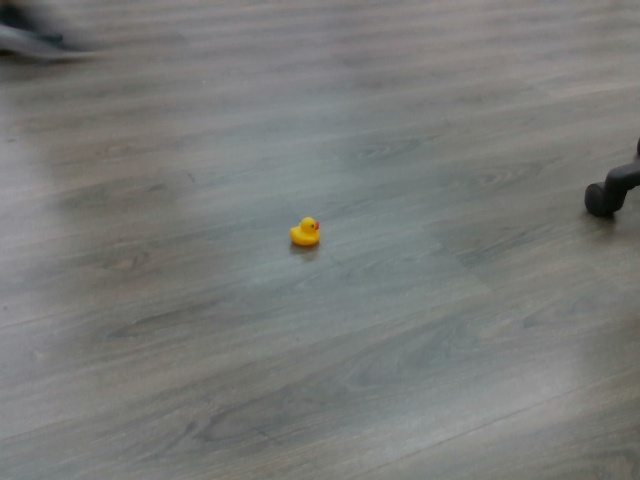duck: (287, 215, 323, 246)
